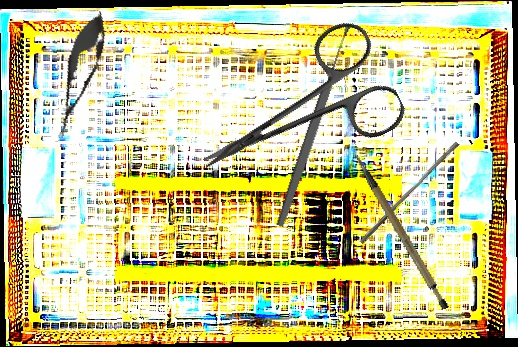Iris Scissors: (176, 14, 411, 213)
Micro Scissor: (45, 6, 115, 144)
Pusher: (359, 138, 460, 248)
Scalpel Handle: (354, 142, 451, 319)
Surgical Spoon: (274, 22, 355, 228)
